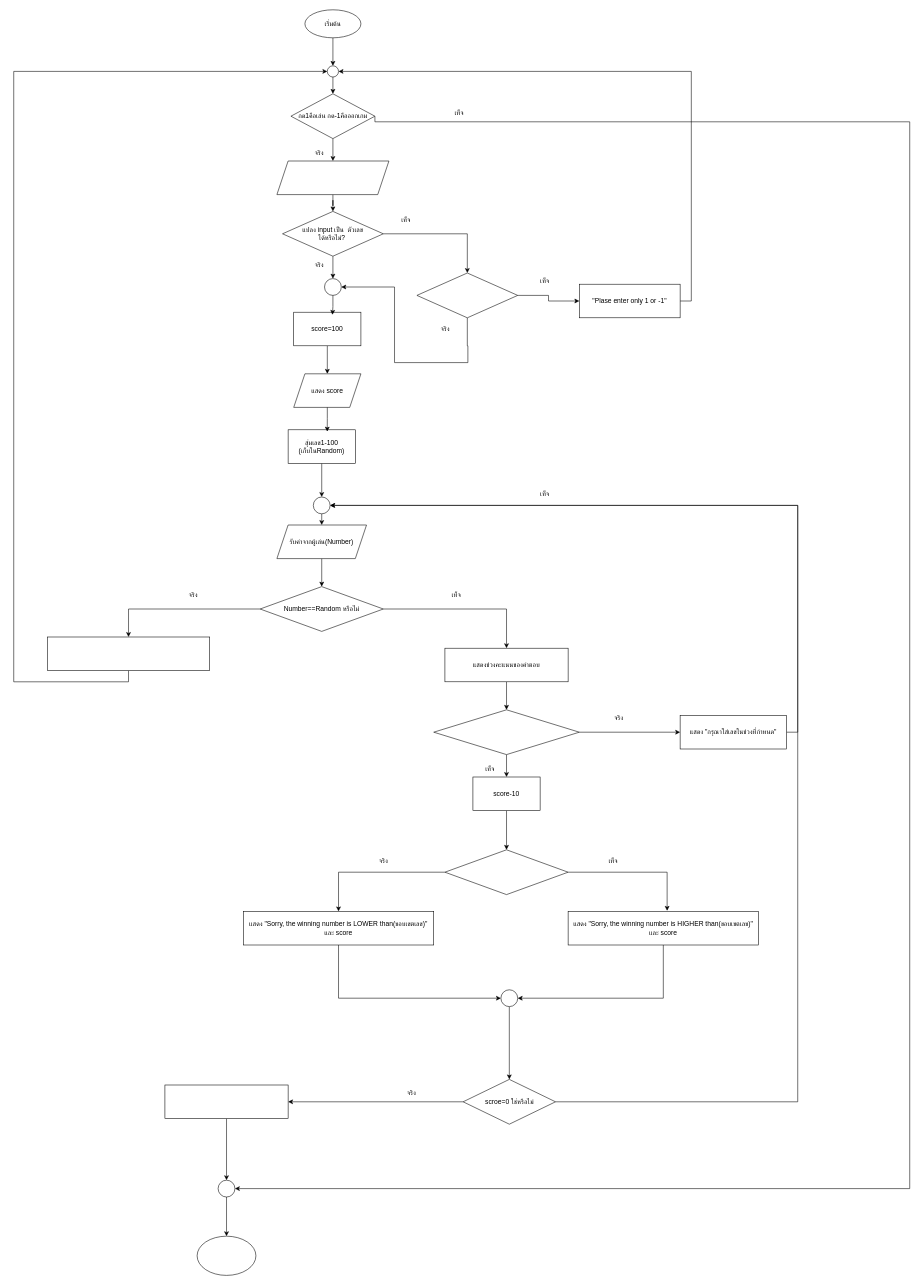
Some shapes in this 924 by 1285 pixel diagram are drawn without their labels. Each missing label, with the centre of its shape:
inpu ค่าเป็น 1 หรือ -1 หรือไม่?: point 467,295
Number < Random หรือไม่: point 506,872
Numberเกินขอบเขตหรือน้อยกว่าขอบเขต: point 506,732
ประกาศตัวแปร intput: point 332,177
สิ้นสุด: point 226,1255
แสดง"Game over please try again": point 226,1101
แสดง"That is correct the winning number is..... " และ score: point 128,653
